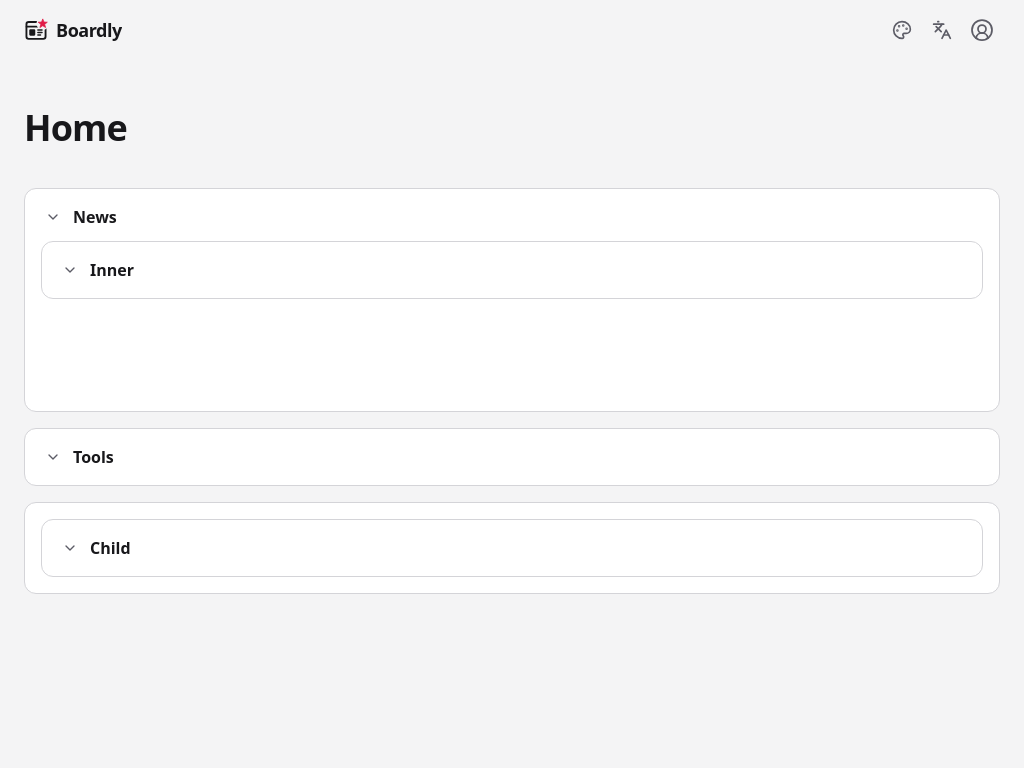
Test: dashboard layout › collapses titled sections and remembers them in this browser
Click the button named "Collapse". click: (53, 217)
box: [41,205,65,229]
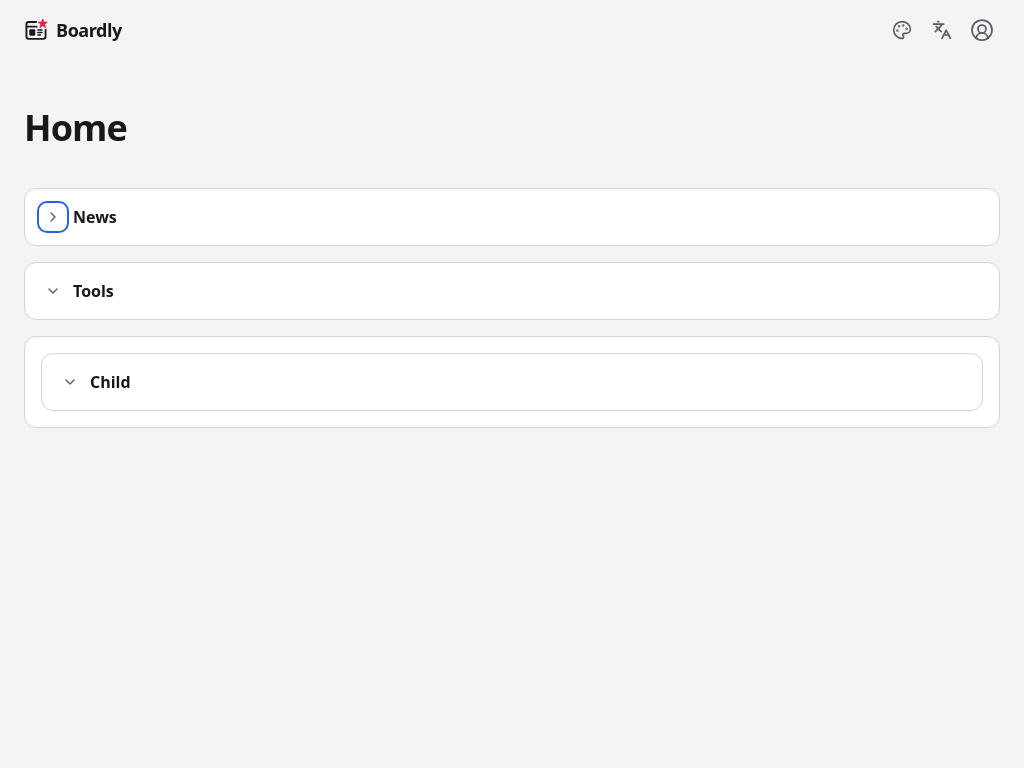
Expected: the button named "Expand News" is collapsed
Expected: the element with test id "section-Inner" is gone
Click the button named "Expand News". click: (53, 217)
box: [41,205,65,229]
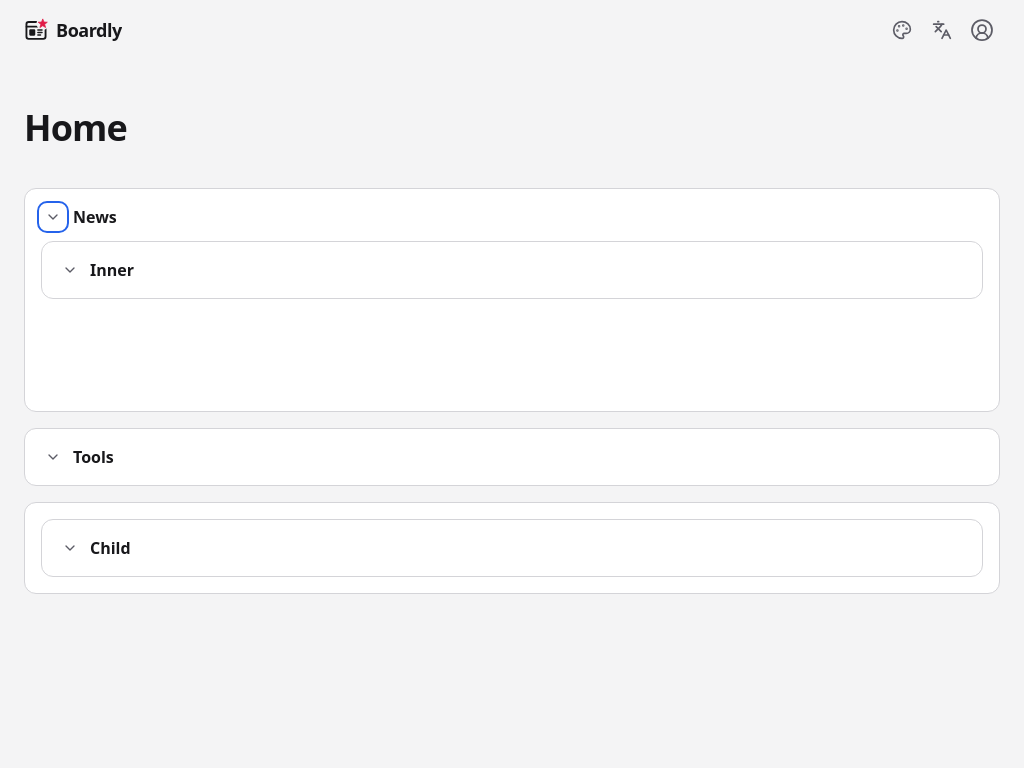
Expected: the element with test id "section-Inner" is shown, [41,241,983,299]
